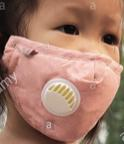with_mask: (2, 2, 124, 144)
